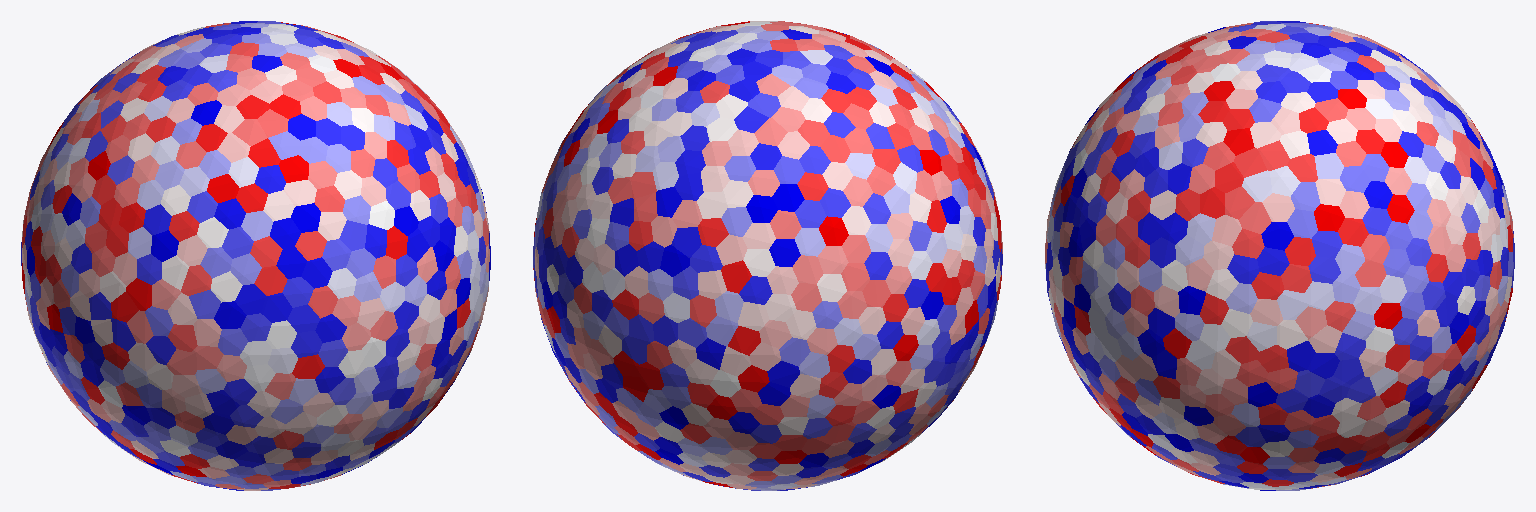
3 renders of one model, left to right at view 1: azimuth 30°, elevation 25°; view 2: azimuth 150°, elevation 25°; view 3: azimuth 270°, elevation 25°, orthographic.
Parts seen in each view (by area): view 1: 3D_Object; view 2: 3D_Object; view 3: 3D_Object.
Part boxes in pixels (bbox=[...]): 3D_Object: bbox=[21, 21, 490, 490]; 3D_Object: bbox=[533, 21, 1002, 490]; 3D_Object: bbox=[1045, 21, 1514, 490].
Bounding box in the file's own units: 2 × 2 × 2.
Materials: 1 (1 with a texture image).